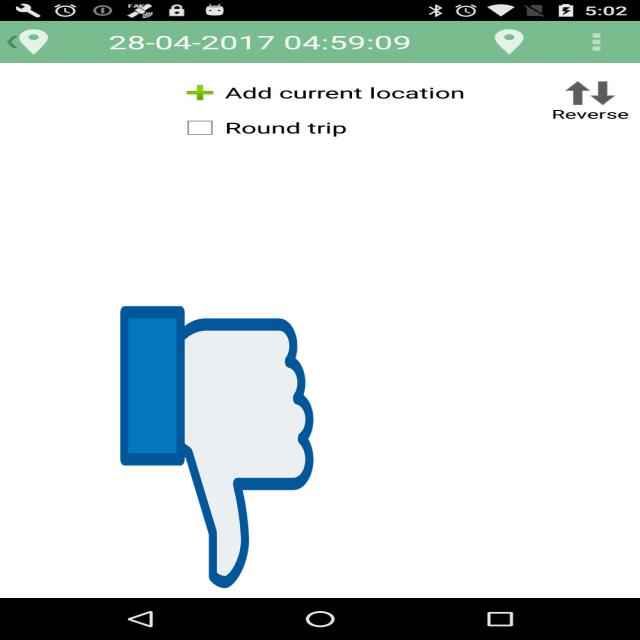obstruction: (120, 300, 314, 594)
